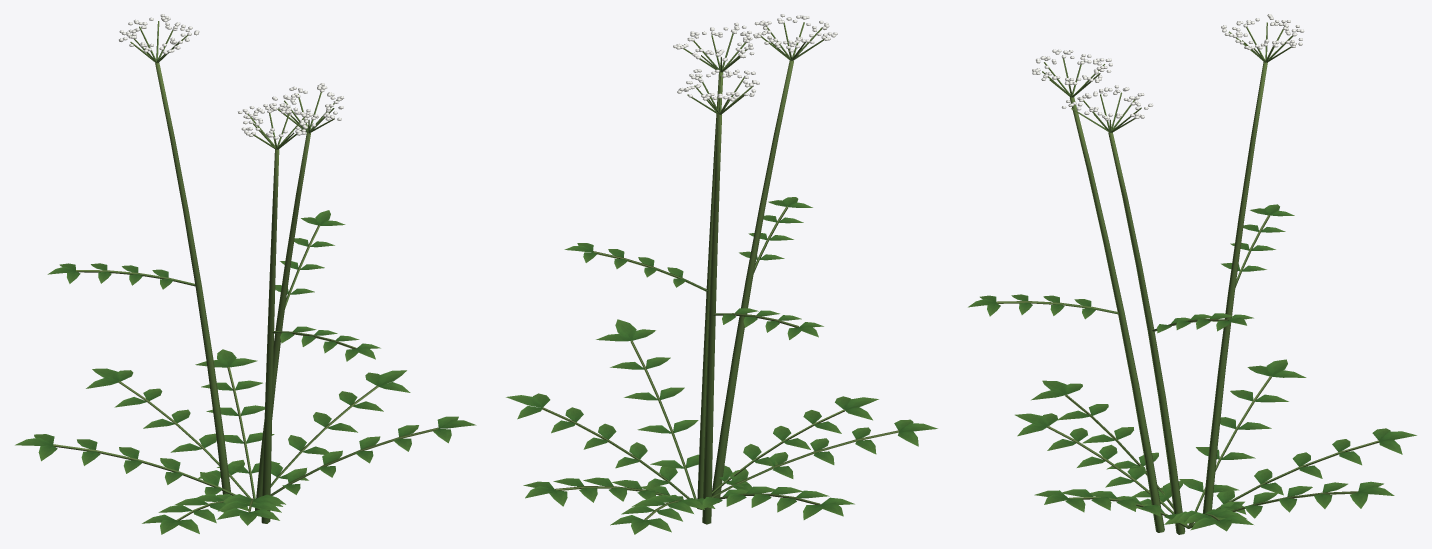
Rendered from sweetcicely.glb.
3 views of the same model, side by side, from view 1: azimuth 30°, elevation 25°; view 2: azimuth 150°, elevation 25°; view 3: azimuth 270°, elevation 25° (orthographic).
Parts seen in each view (by area): view 1: sweetcicely; view 2: sweetcicely; view 3: sweetcicely.
Boxes of the visible parts, left/top/right/bottom form: sweetcicely: left=15, top=14, right=476, bottom=534; sweetcicely: left=506, top=14, right=937, bottom=534; sweetcicely: left=968, top=14, right=1416, bottom=534.
Bounding box in the file's own units: 0.7144 × 0.8762 × 0.7547.
Materials: 1 (1 with a texture image).
